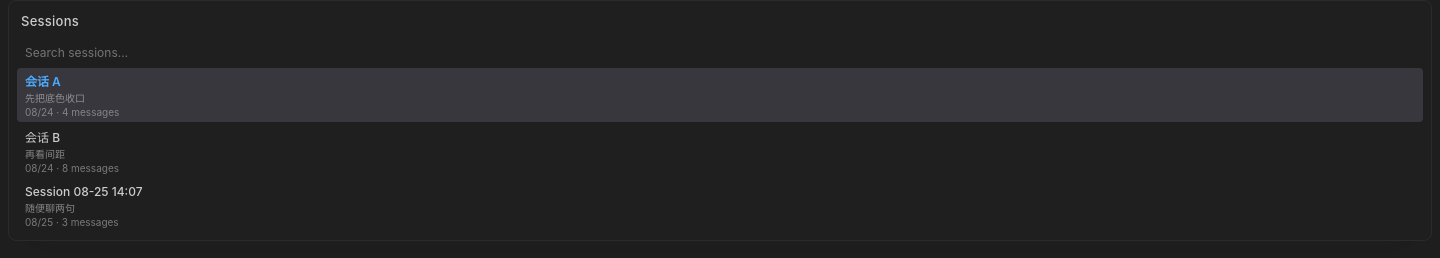
SessionsPopup — the search area › says so when nothing matches, and keeps the box in place
Type "没有这条" into the field with id "sessions-search". click: (720, 52)
box: 17,41 -> 1423,64
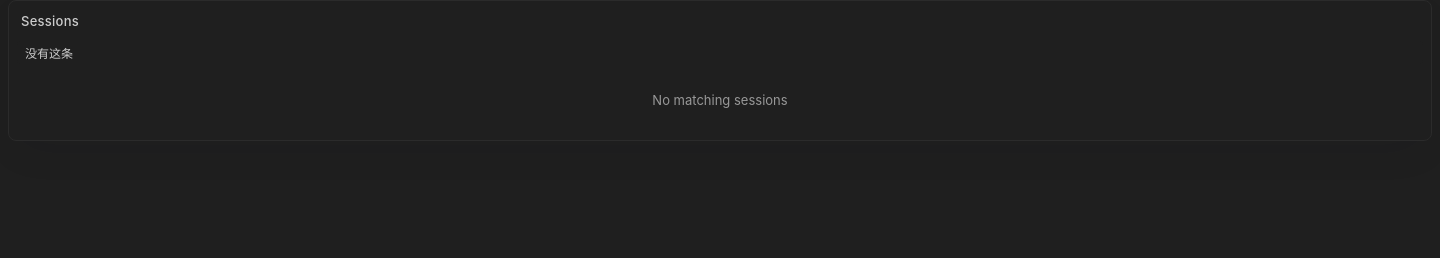
Expected: no buttons with class "session-item" are shown
Expected: the text with class "sessions-empty" reads "No matching sessions", 652,92 -> 788,108
